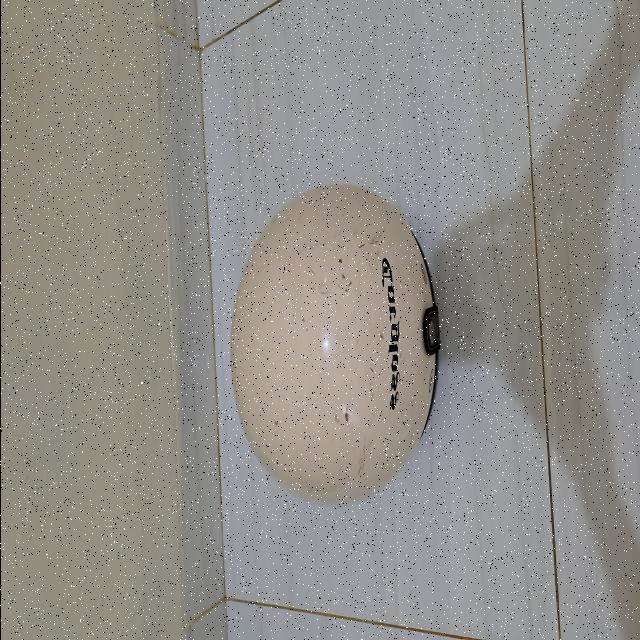Helmet: (229, 183, 441, 506)
